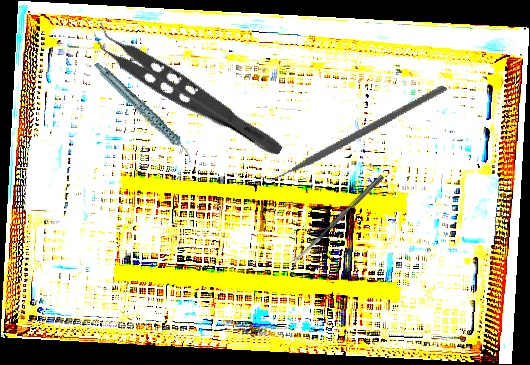Chopper: (254, 26, 448, 236)
Handpiece: (93, 46, 195, 179)
Surgical Spoon: (288, 173, 385, 267)
Tissue Forceps: (84, 18, 294, 161)
